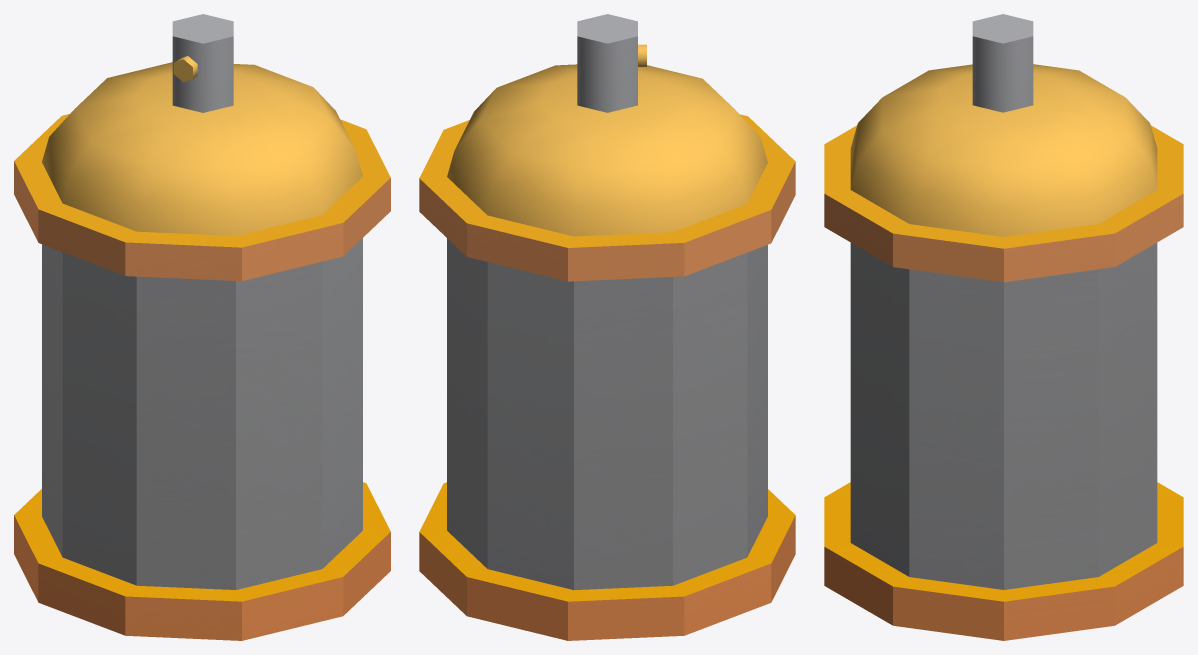
Rendered from SM_Spray.fbx.
3 renders of one model, left to right at view 1: azimuth 30°, elevation 25°; view 2: azimuth 150°, elevation 25°; view 3: azimuth 270°, elevation 25°, orthographic.
Parts seen in each view (by area): view 1: SM_Spray; view 2: SM_Spray; view 3: SM_Spray.
Part boxes in pixels (bbox=[...]): SM_Spray: bbox=[14, 14, 390, 640]; SM_Spray: bbox=[419, 14, 795, 640]; SM_Spray: bbox=[824, 14, 1183, 640].
Bounding box in the file's own units: 13.94 × 21.68 × 13.26.
